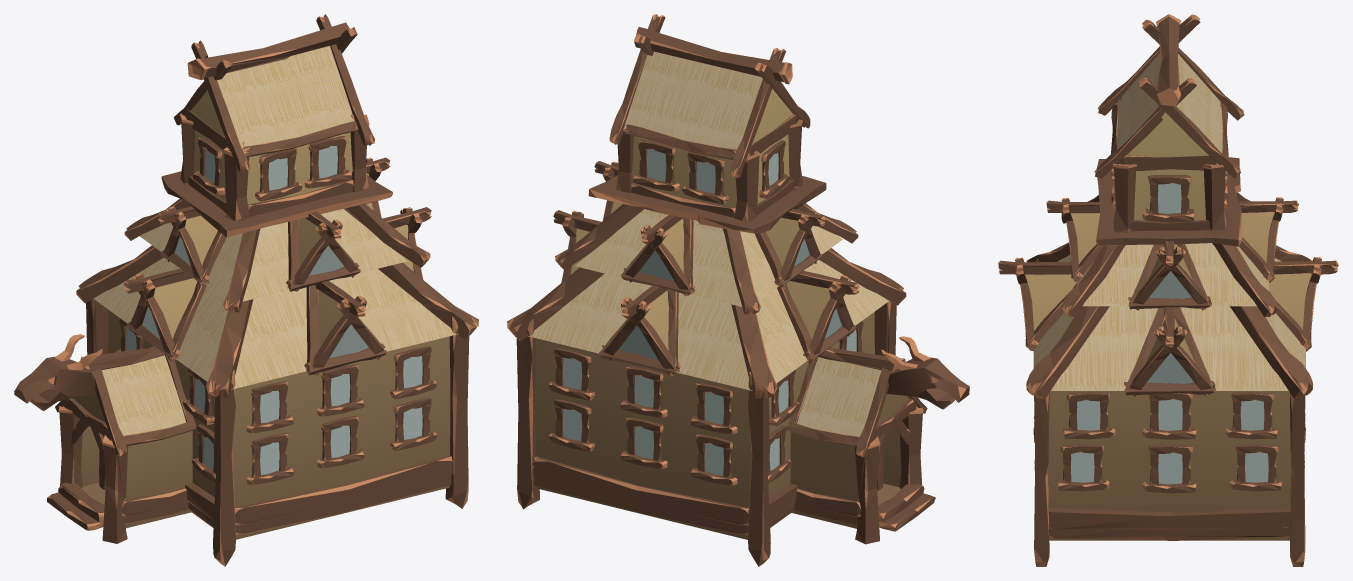
The model's file is Bina Belediye.fbx.
3 views of the same model, side by side, from view 1: azimuth 30°, elevation 25°; view 2: azimuth 150°, elevation 25°; view 3: azimuth 270°, elevation 25° (orthographic).
Visible parts, largest first — view 1: Bina Belediye; view 2: Bina Belediye; view 3: Bina Belediye.
Boxes of the visible parts, x1=… form: Bina Belediye: x1=14, y1=14, x2=478, y2=566; Bina Belediye: x1=507, y1=14, x2=969, y2=566; Bina Belediye: x1=998, y1=14, x2=1338, y2=566.
Size of the model in its own units: 671 by 706 by 474.
